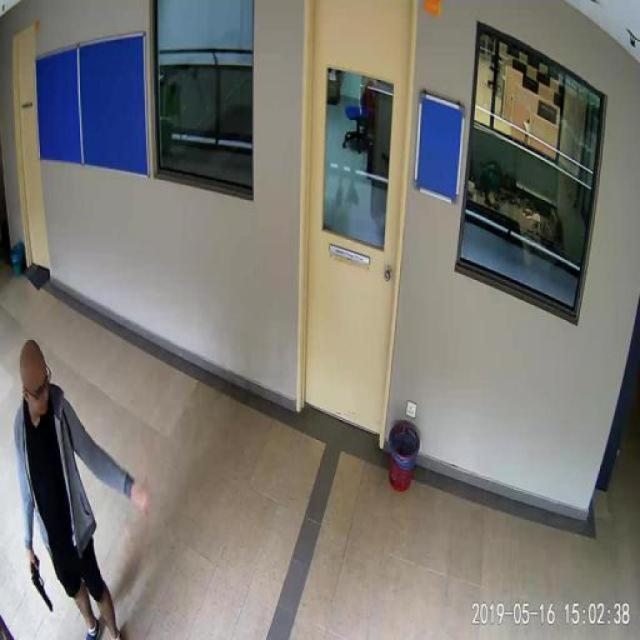pistol: (28, 551, 52, 611)
